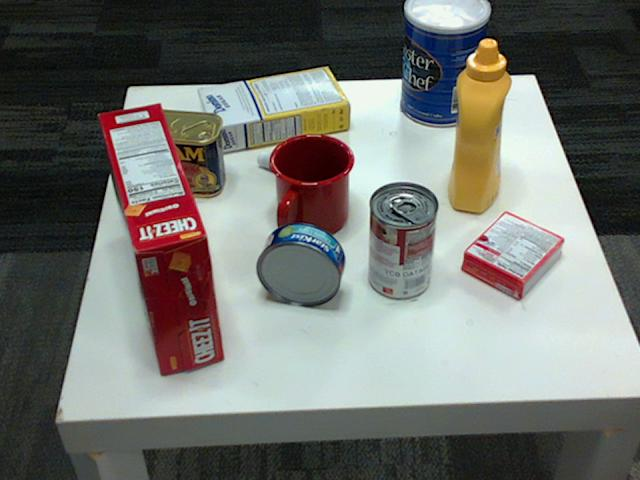cracker_box: (96, 101, 224, 373)
gelatin_box: (462, 211, 565, 299)
large_marker: (255, 153, 347, 195)
master_chef_can: (398, 0, 488, 126)
mug: (269, 130, 356, 234)
mustard_bottle: (447, 39, 511, 212)
potted_meat_can: (127, 109, 226, 196)
sugar_box: (198, 65, 351, 151)
tomato_soup_can: (369, 181, 438, 298)
tuna_fish_can: (257, 222, 346, 305)
